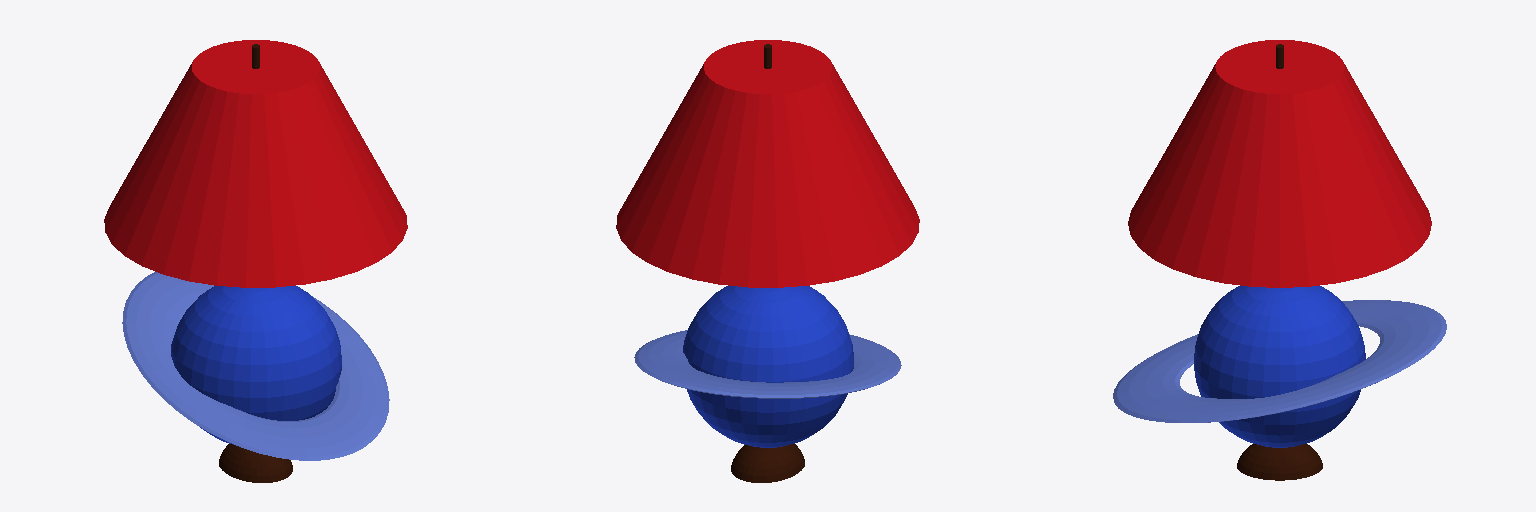
Rendered from lamp.obj.
The picture shows the model from 3 angles: view 1: azimuth 30°, elevation 25°; view 2: azimuth 150°, elevation 25°; view 3: azimuth 270°, elevation 25°; orthographic projection.
Visible parts, largest first — view 1: Cylinder, Sphere_Sphere.006, Torus.002, Sphere.001_Sphere.007; view 2: Cylinder, Sphere_Sphere.006, Torus.002, Sphere.001_Sphere.007; view 3: Cylinder, Sphere_Sphere.006, Torus.002, Sphere.001_Sphere.007.
Boxes of the visible parts, <box> form: Cylinder: <box>104,40,407,287</box>; Sphere_Sphere.006: <box>171,286,341,444</box>; Torus.002: <box>122,272,389,460</box>; Sphere.001_Sphere.007: <box>219,444,292,482</box>; Cylinder: <box>616,40,919,287</box>; Sphere_Sphere.006: <box>683,286,853,447</box>; Torus.002: <box>634,330,901,398</box>; Sphere.001_Sphere.007: <box>731,444,804,482</box>; Cylinder: <box>1128,40,1431,287</box>; Sphere_Sphere.006: <box>1194,286,1365,447</box>; Torus.002: <box>1113,300,1446,422</box>; Sphere.001_Sphere.007: <box>1237,444,1322,480</box>.
Bounding box in the file's own units: 3.52 × 5.35 × 3.87.